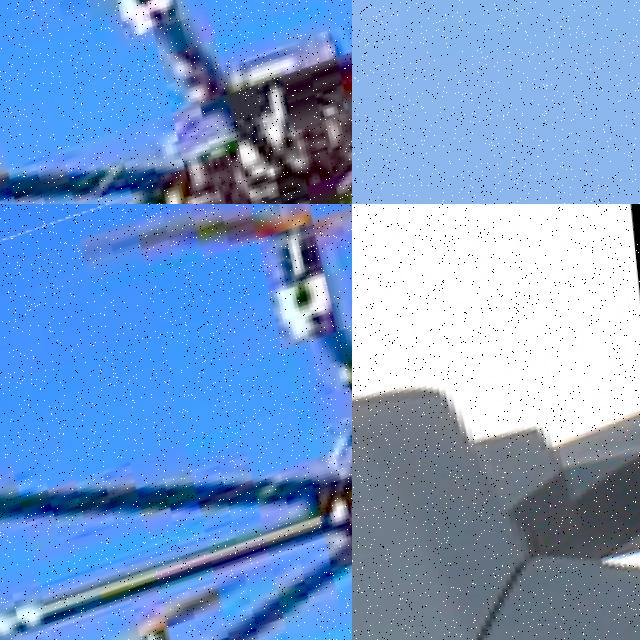drone: (0, 204, 352, 640), (352, 204, 640, 640), (0, 0, 352, 204)
